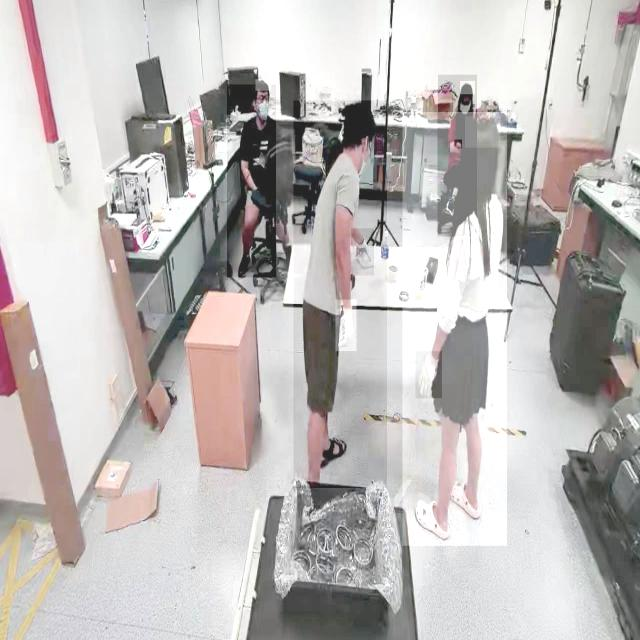face_mask: (254, 90, 270, 124), (457, 87, 473, 120)
hand_glove: (415, 351, 442, 399), (335, 300, 357, 352), (351, 228, 374, 276)
hand_noglove: (454, 140, 462, 150)
head_nohelmet: (464, 116, 500, 148), (343, 102, 377, 125), (459, 81, 475, 95), (255, 79, 271, 92)
person: (402, 112, 507, 547), (293, 100, 387, 489), (226, 84, 276, 278), (437, 75, 477, 236)
